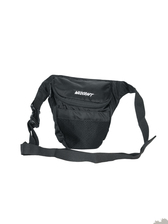bag: (21, 73, 161, 173)
